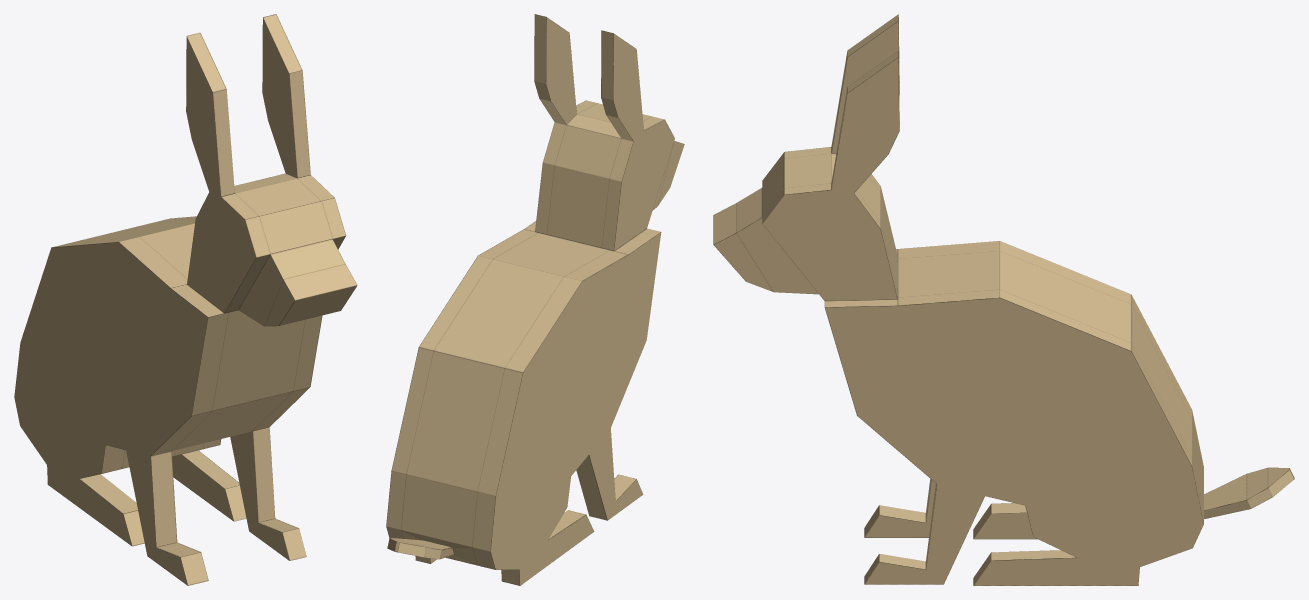
The model's file is Cardboard_Rabbit.fbx.
3 renders of one model, left to right at view 1: azimuth 30°, elevation 25°; view 2: azimuth 150°, elevation 25°; view 3: azimuth 270°, elevation 25°, orthographic. The views are drawn at different scales.
Parts seen in each view (by area): view 1: Plane.001; view 2: Plane.001; view 3: Plane.001.
Part boxes in pixels (<box>): Plane.001: <box>14,14,357,585</box>; Plane.001: <box>386,14,684,585</box>; Plane.001: <box>713,14,1294,585</box>.
Size of the model in its own units: 200 by 861 by 868.
